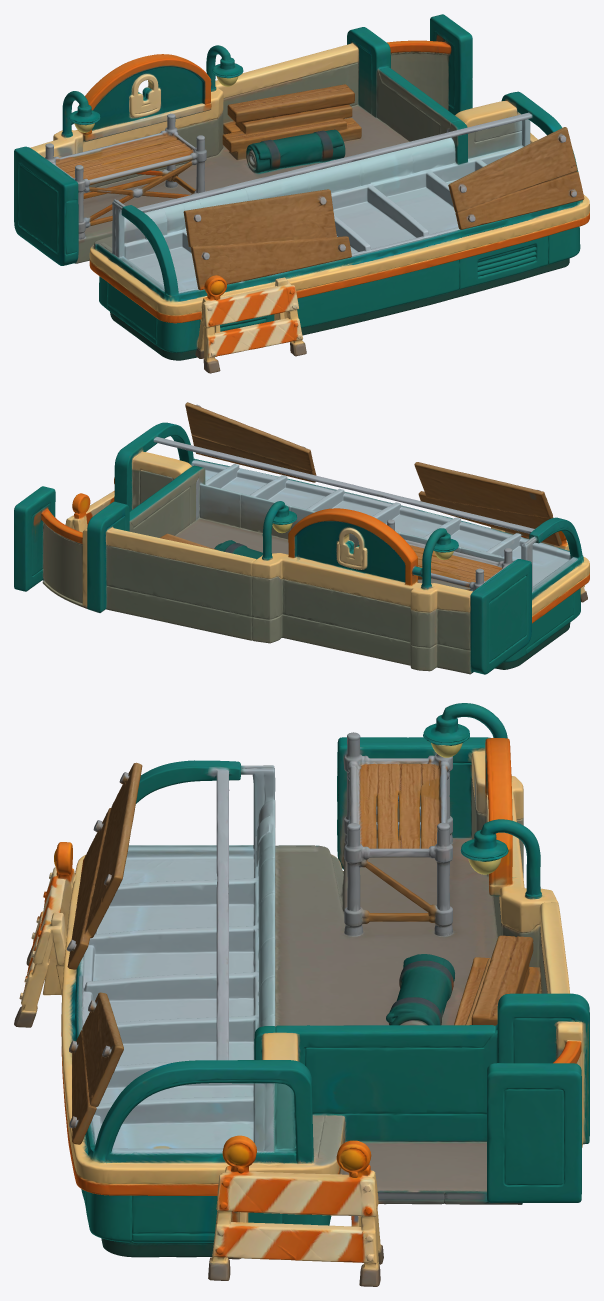
File: ConstructionPlatform.glb
The picture shows the model from 3 angles, top to bottom: view 1: azimuth 30°, elevation 25°; view 2: azimuth 150°, elevation 25°; view 3: azimuth 270°, elevation 25°; orthographic projection. The views are drawn at different scales.
Visible parts, largest first — view 1: tripo_node_d19c09b9-e01b-4f4e-a43c-f3cf853cb26f; view 2: tripo_node_d19c09b9-e01b-4f4e-a43c-f3cf853cb26f; view 3: tripo_node_d19c09b9-e01b-4f4e-a43c-f3cf853cb26f.
Boxes of the visible parts, box(x1,y1,x2,y2) form: tripo_node_d19c09b9-e01b-4f4e-a43c-f3cf853cb26f: box(14, 14, 589, 373); tripo_node_d19c09b9-e01b-4f4e-a43c-f3cf853cb26f: box(14, 402, 589, 674); tripo_node_d19c09b9-e01b-4f4e-a43c-f3cf853cb26f: box(14, 703, 589, 1286).
Size of the model in its own units: 0.9817 by 0.3562 by 0.66.
Materials: 1 (1 with a texture image).
